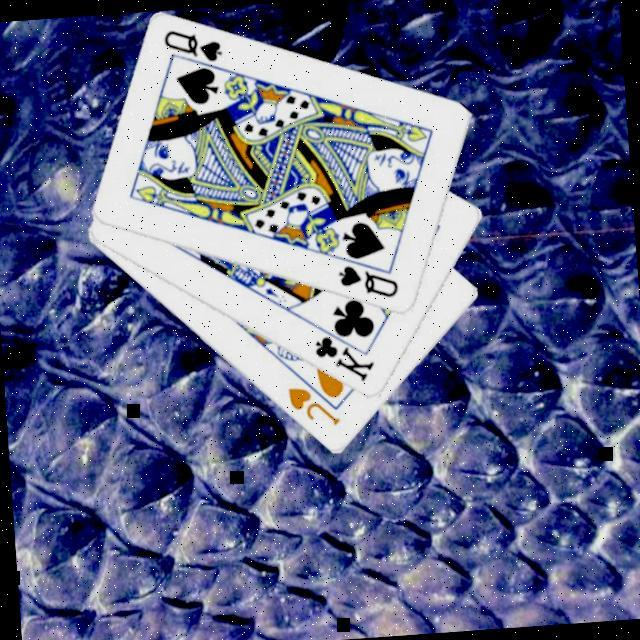JH: (283, 382, 343, 434)
KC: (309, 320, 378, 390)
QS: (333, 260, 402, 307), (158, 26, 226, 70)
